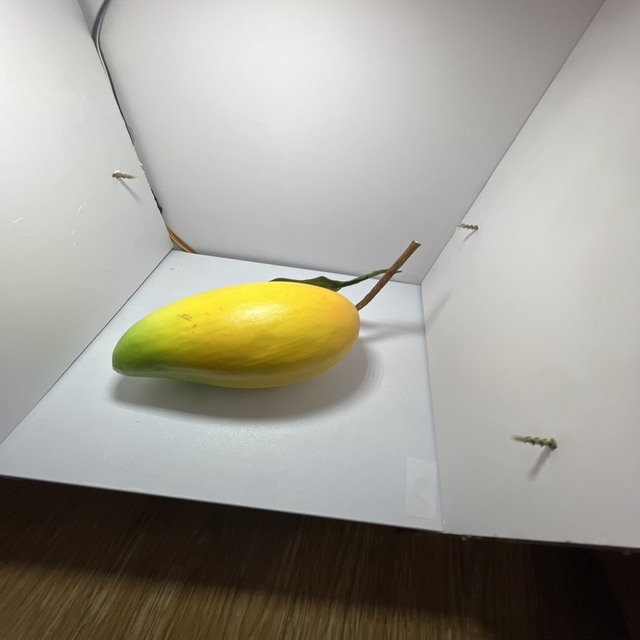Xoai: (92, 231, 387, 453)
